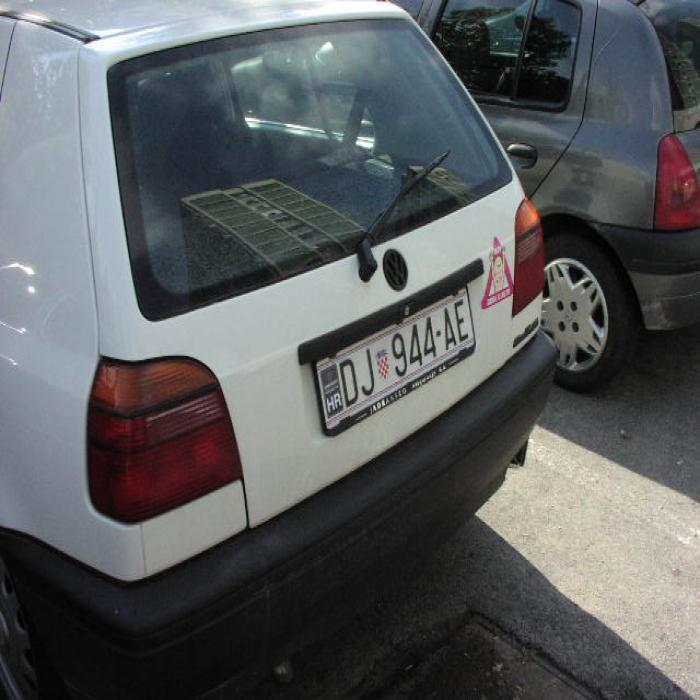number_plate: (324, 284, 468, 429)
